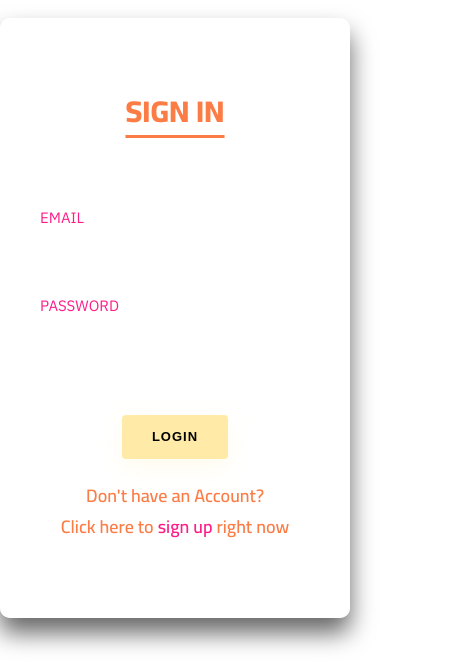
Test: Given a RegisterLogin Page › When it's invoked and an user clicks on the text that redirects to the Register Form › Then it renders a textbox with the text 'FIRSTNAME'
Click the text "Don't have an Account?".
click(175, 495)  # box [86,479,264,512]
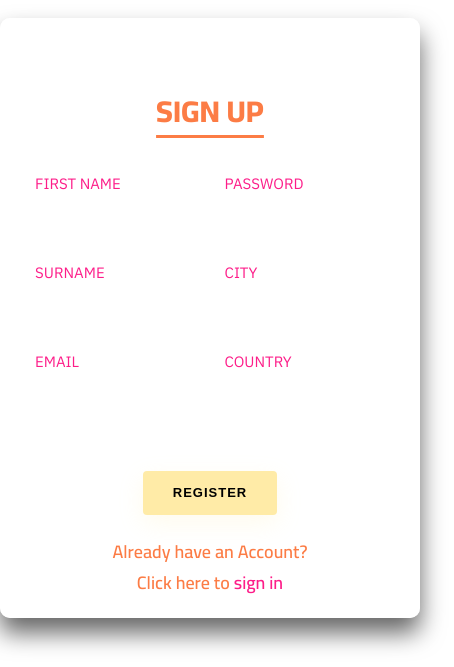
expect the field labelled "FIRST NAME" is shown: met, box [35,164,200,203]
